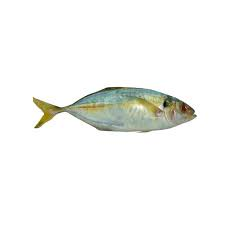Ikan Selar: (21, 79, 203, 138)
